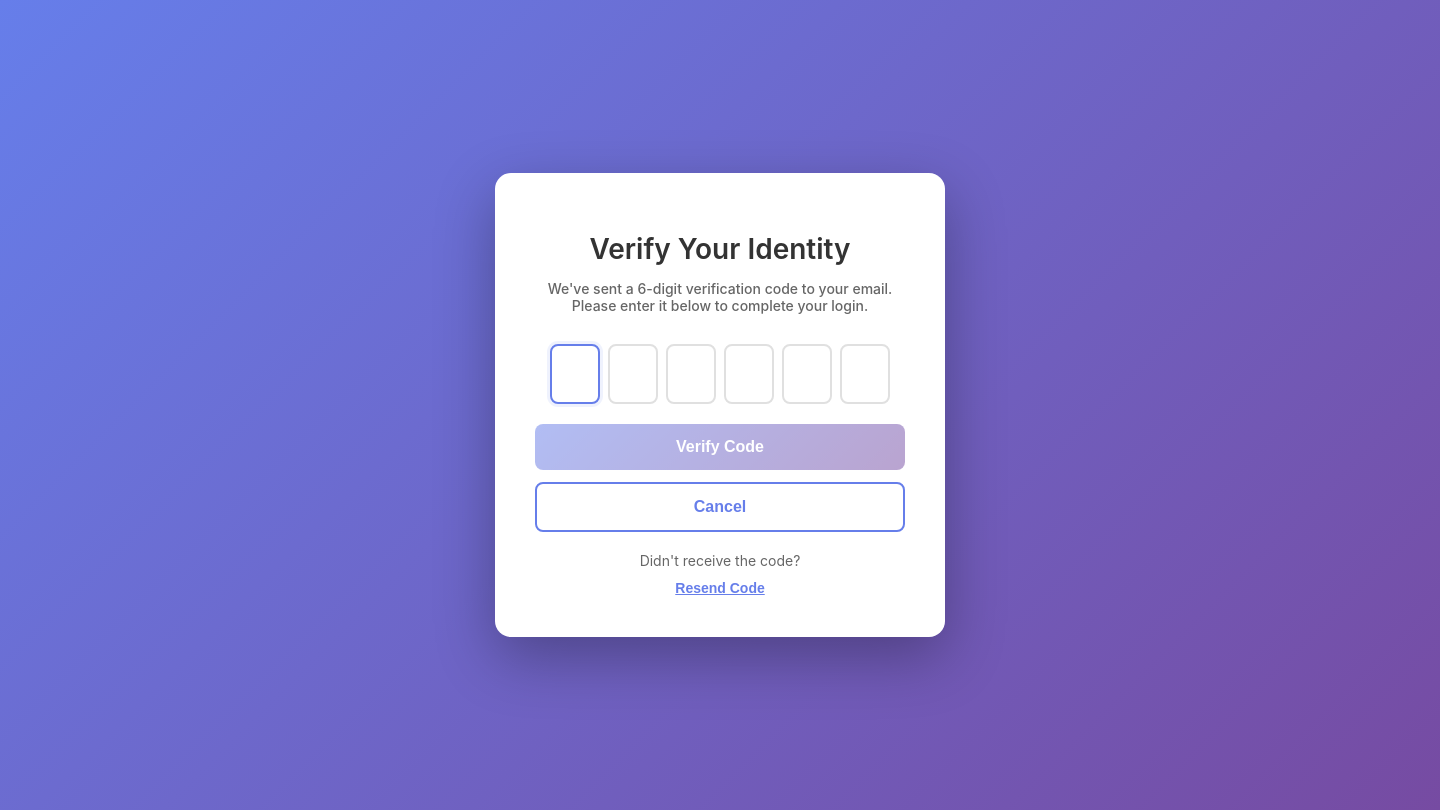
Test: 2FA Verification Page › Form Submission › should handle network errors
The image size is (1440, 810).
Check: the heading "Verify Your Identity" is shown, box [590,232,850,266]
Type "1" into the 1st field at (575, 374), box [550,344,600,404]
Type "2" into the 2nd field at (633, 374), box [608,344,658,404]
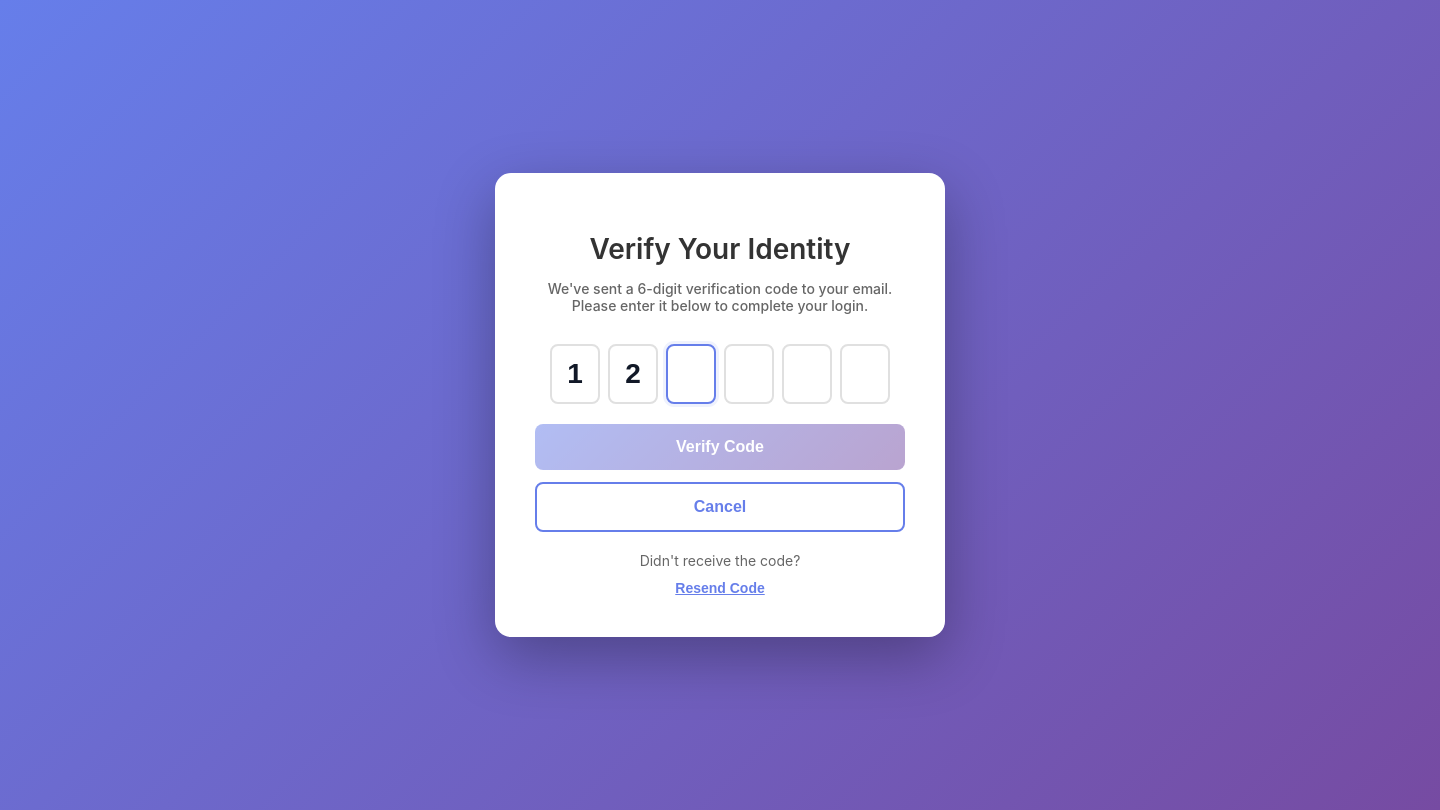
Type "3" into the 3rd field at (691, 374), box [666,344,716,404]
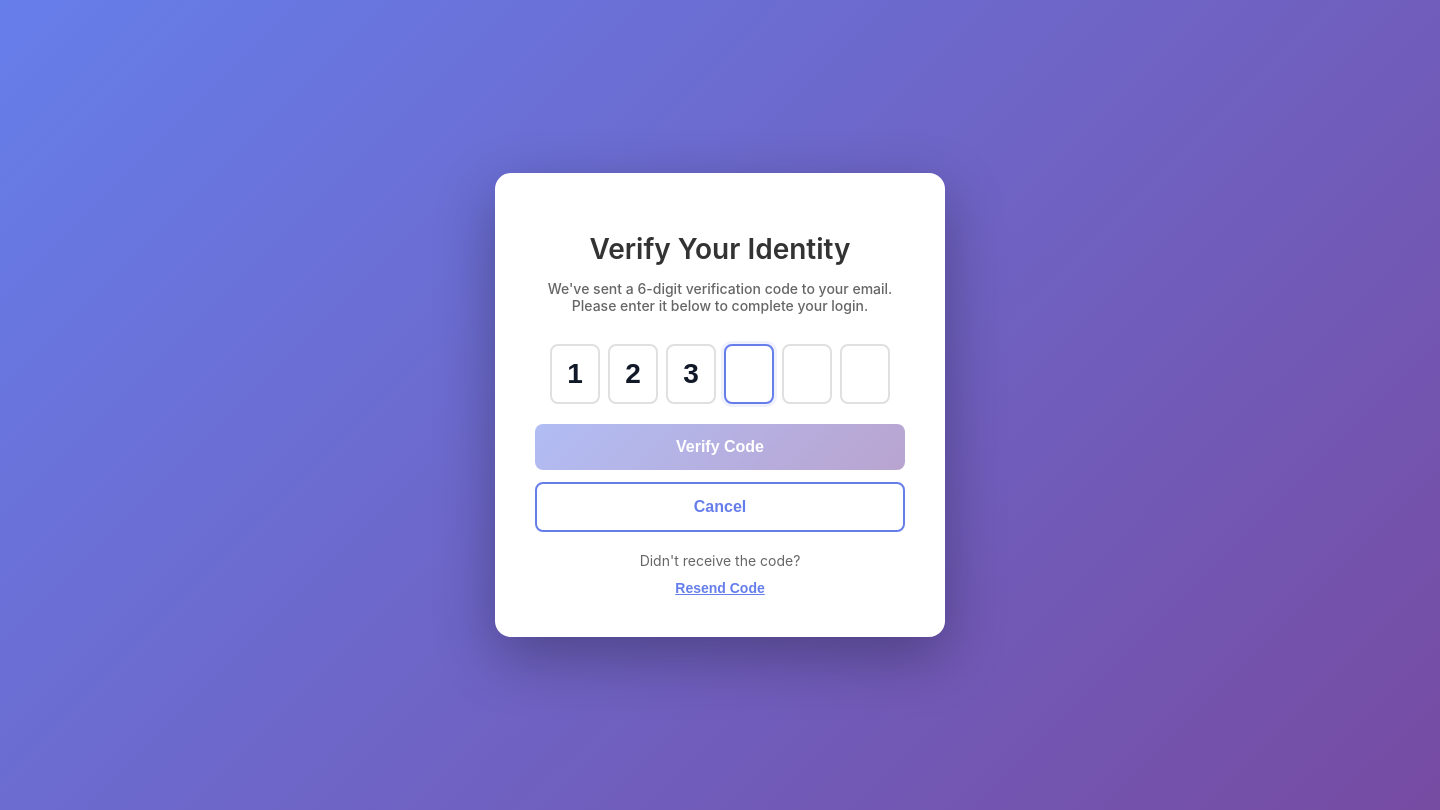
Type "4" into the 4th field at (749, 374), box [724,344,774,404]
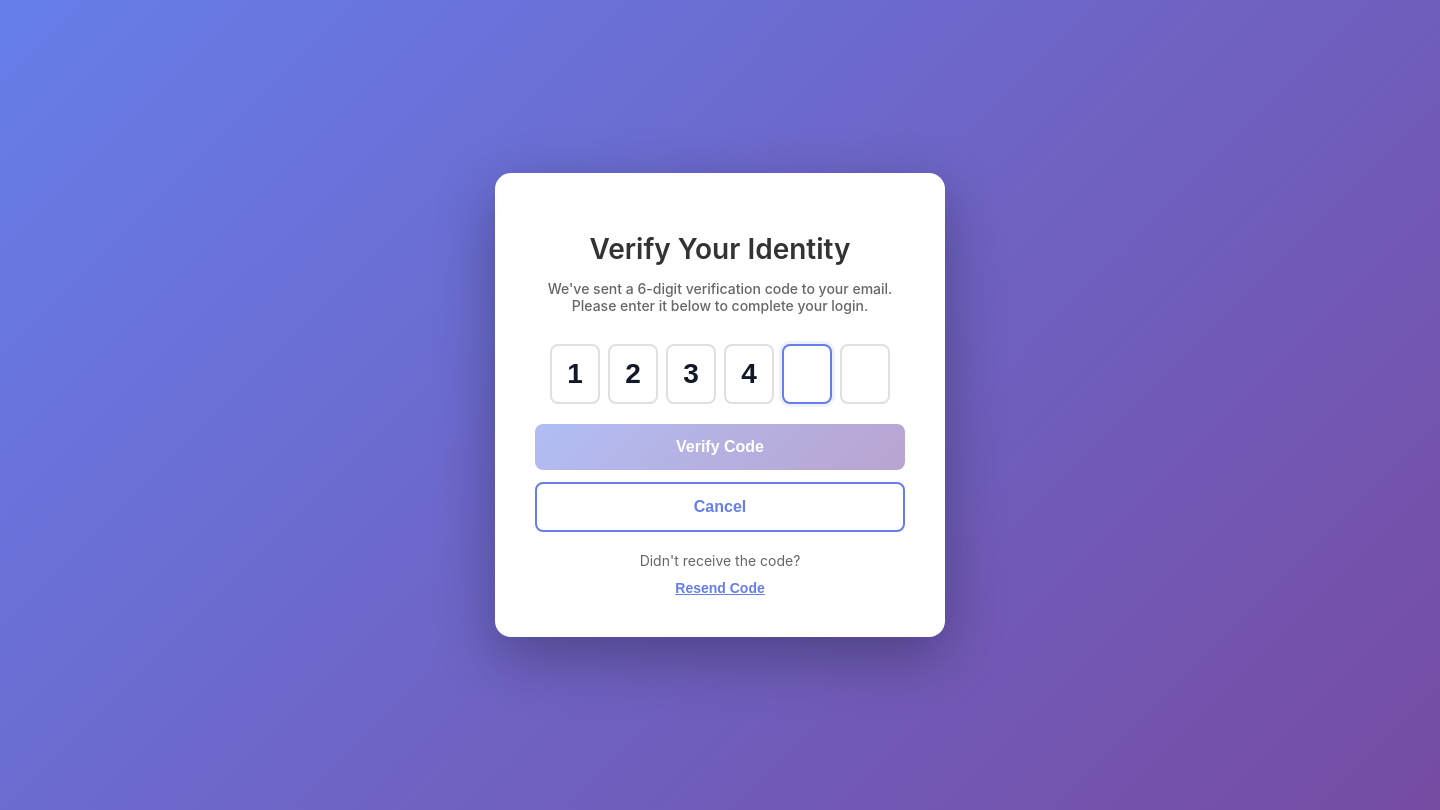
Type "5" into the 5th field at (807, 374), box [782,344,832,404]
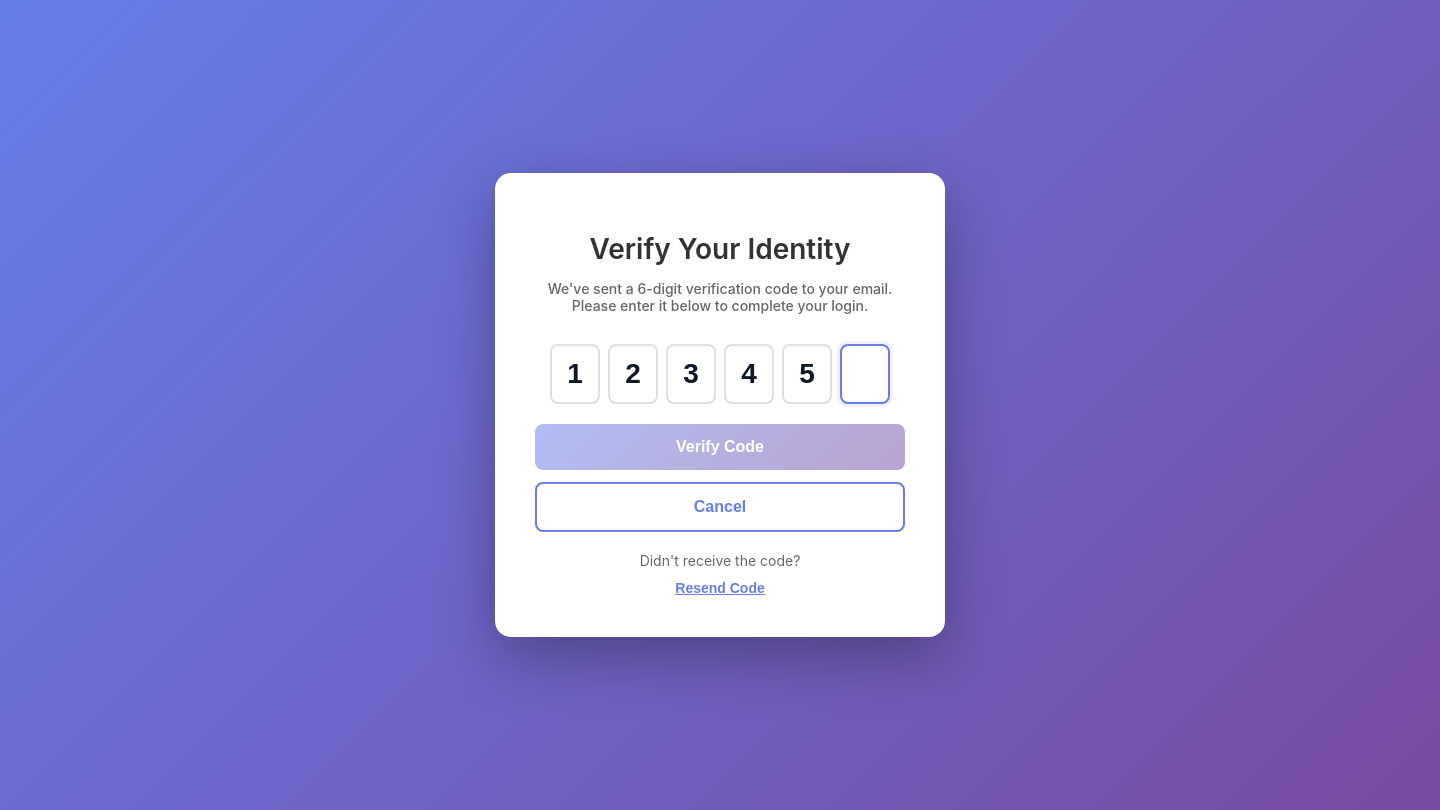
Type "6" into the 6th field at (865, 374), box [840,344,890,404]
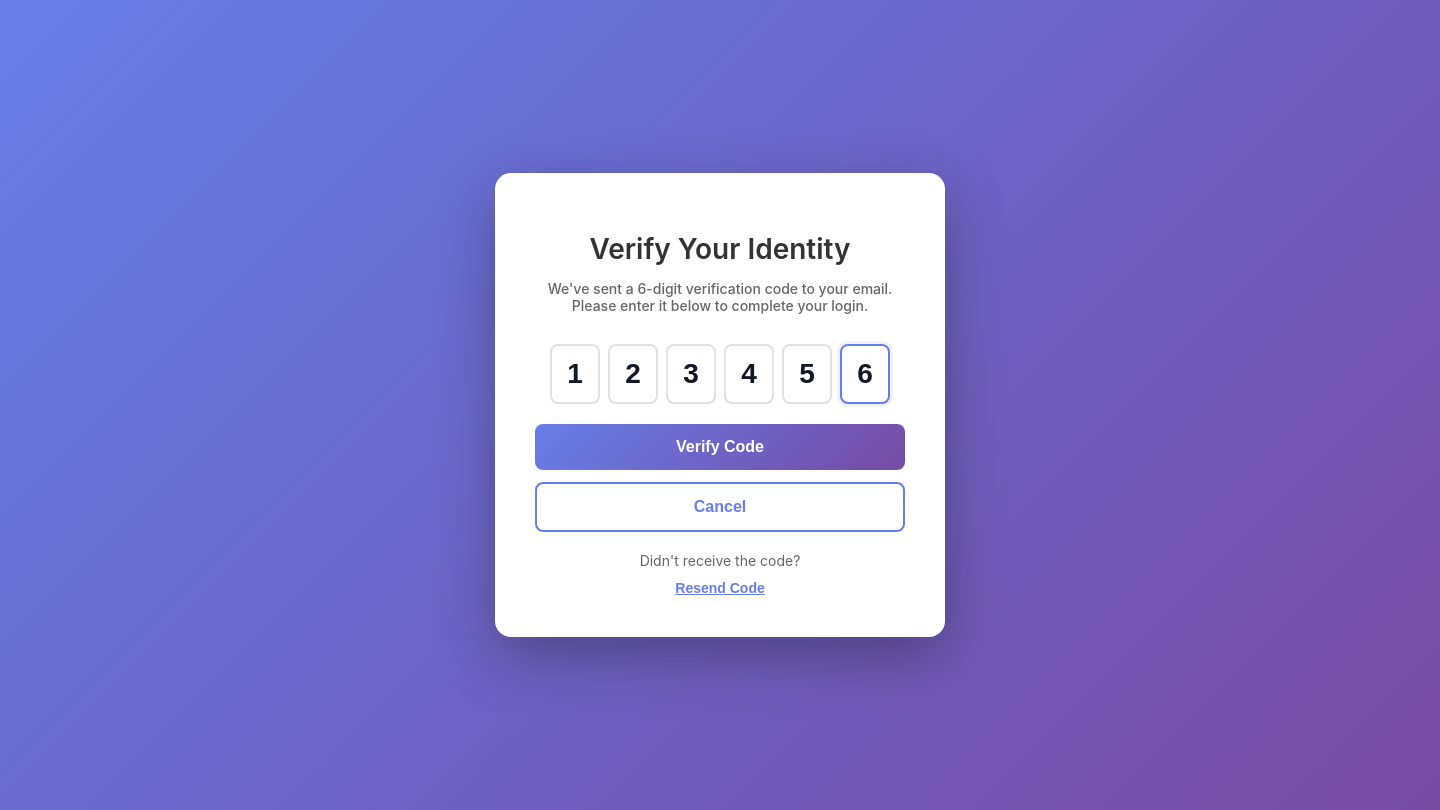
Click the button "Verify Code" at (720, 447), box [535,424,905,470]
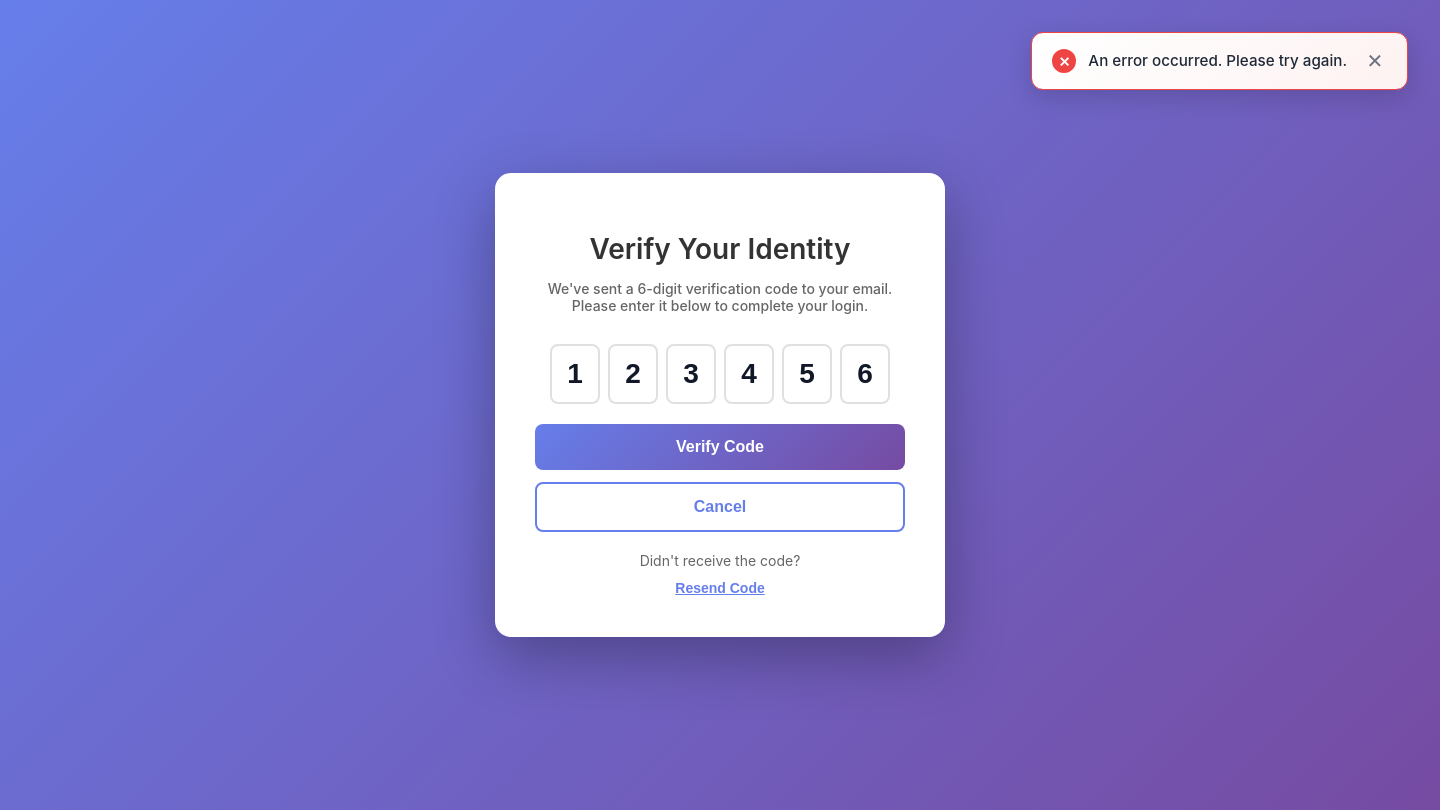
Check: the text "An error occurred. Please try again." is shown, box [1088,50,1347,72]
